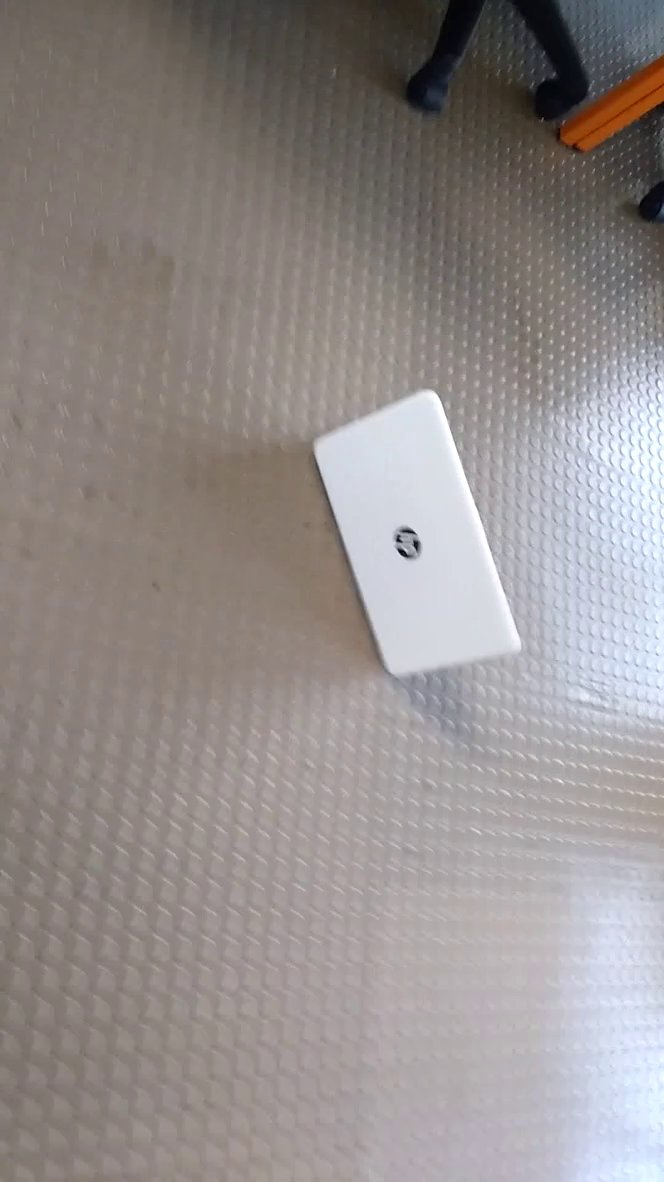laptop: (305, 376, 529, 691)
